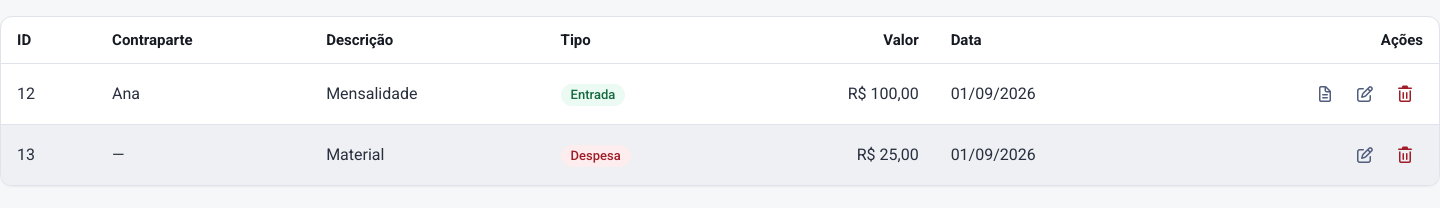
Test: LancamentosTable › keeps a single row in edition at a time
The width and height of the screenshot is (1440, 208).
Click the button named "Editar descrição do lançamento 12".
click(1365, 94)  # box [1347, 76, 1383, 112]
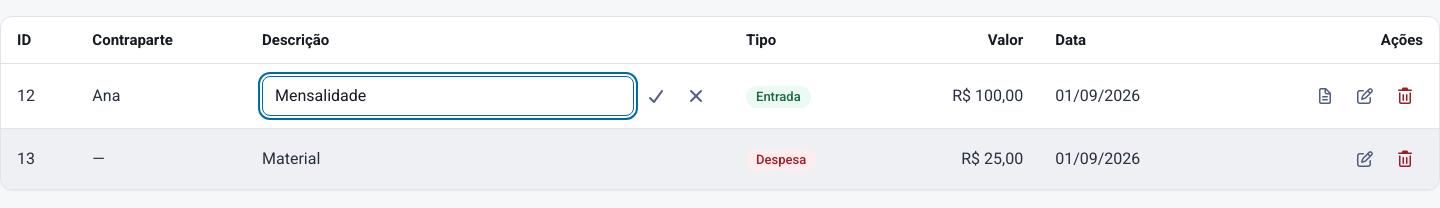
Click the button named "Editar descrição do lançamento 13".
click(1365, 159)  # box [1347, 141, 1383, 177]
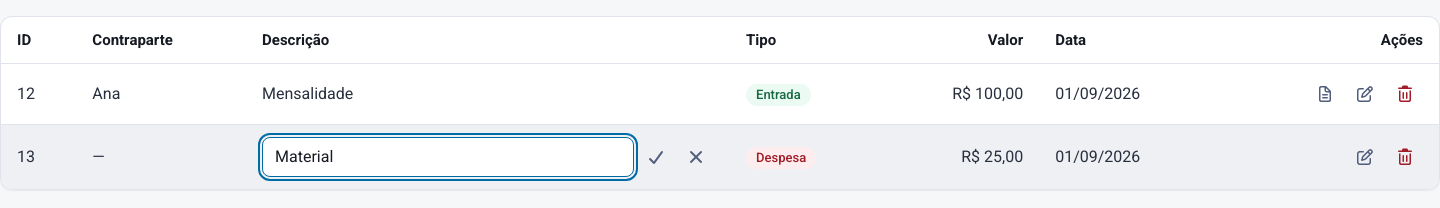
Expected: the number of fields is 1, [262, 137, 634, 177]
Expected: the row "12 Ana Mensalidade Entrada R$ 100,00 01/09/2026" is shown, [1, 64, 1439, 124]
